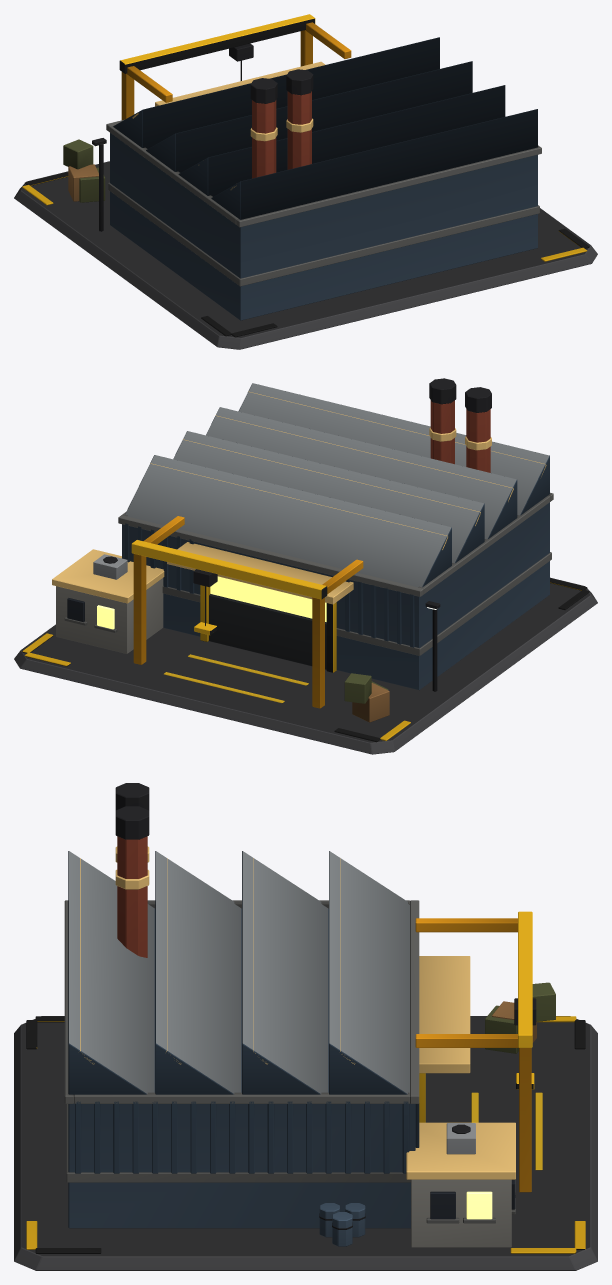
File: vehicle_factory.glb
The picture shows the model from 3 angles, top to bottom: view 1: azimuth 30°, elevation 25°; view 2: azimuth 150°, elevation 25°; view 3: azimuth 270°, elevation 25°; orthographic projection. The views are drawn at different scales.
Parts seen in each view (by area): view 1: vehicle_factory; view 2: vehicle_factory; view 3: vehicle_factory.
Boxes of the visible parts, x1,y1,x2,y2 form: vehicle_factory: [14, 14, 597, 349]; vehicle_factory: [14, 378, 597, 754]; vehicle_factory: [14, 783, 597, 1270].
Bounding box in the file's own units: 3.2 × 1.74 × 3.2.
